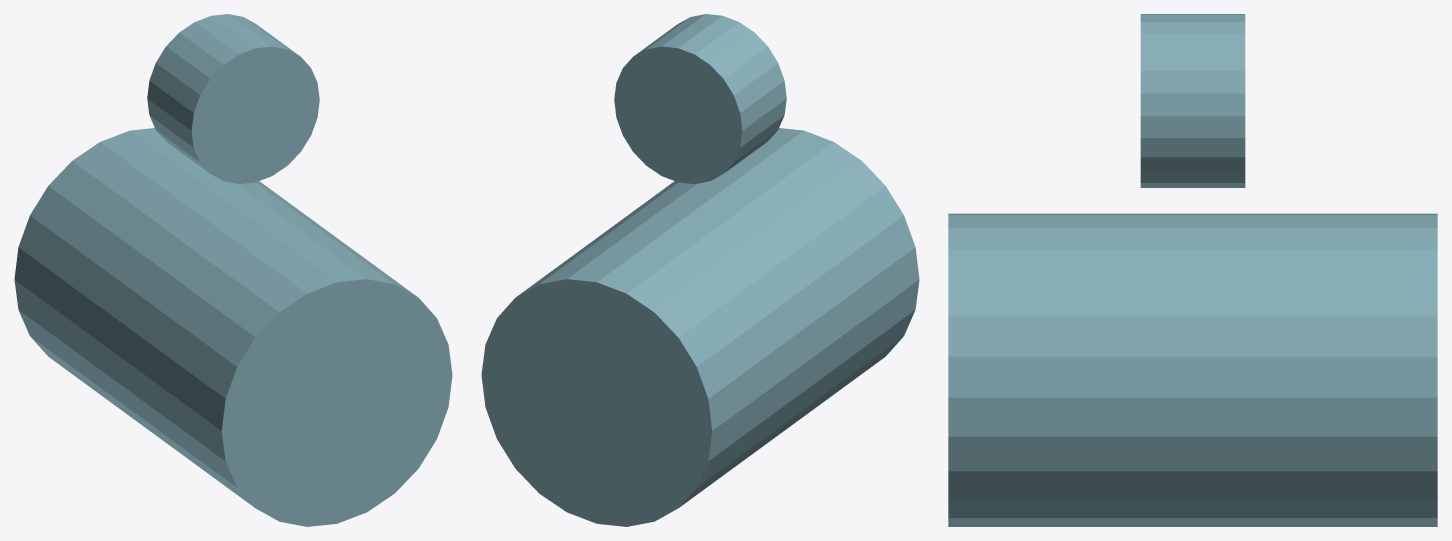
File: vase.glb
The picture shows the model from 3 angles, left to right: view 1: azimuth 30°, elevation 25°; view 2: azimuth 150°, elevation 25°; view 3: azimuth 270°, elevation 25°; orthographic projection. The views are drawn at different scales.
Parts seen in each view (by area): view 1: world; view 2: world; view 3: world.
Part boxes in pixels (<box>): world: <box>14,14,452,526</box>; world: <box>481,14,919,526</box>; world: <box>948,14,1437,526</box>.
Bounding box in the file's own units: 0.18 × 0.31 × 0.28.
